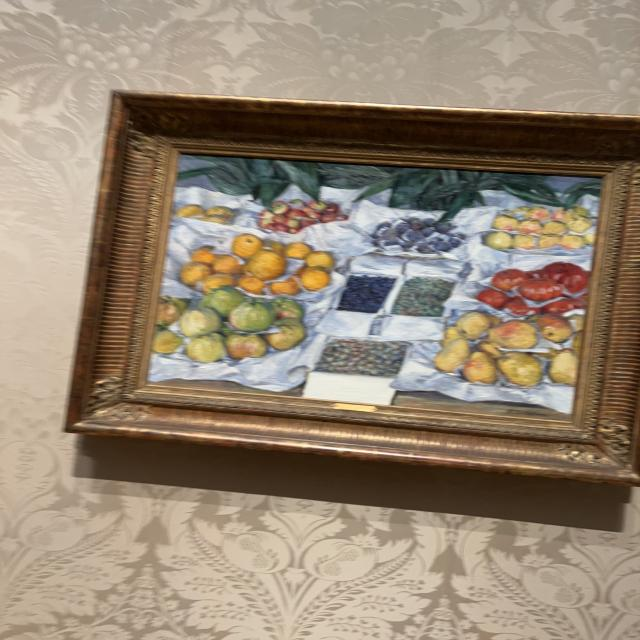fruits: (146, 152, 606, 422)
